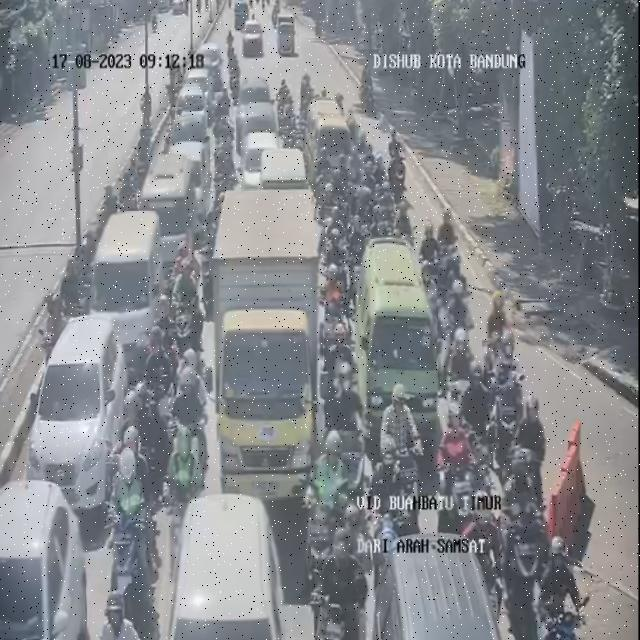bus: (272, 7, 301, 61), (197, 43, 224, 92), (234, 0, 258, 28)
cars: (28, 314, 128, 506), (166, 492, 288, 638), (359, 239, 436, 452), (0, 478, 85, 638), (372, 542, 506, 640), (87, 211, 159, 381), (140, 153, 206, 280), (258, 150, 310, 234), (311, 107, 354, 189), (236, 103, 280, 179), (169, 111, 210, 186), (164, 144, 210, 207), (241, 133, 280, 191), (235, 18, 268, 83), (238, 74, 273, 124), (179, 84, 211, 130), (231, 0, 249, 30)
motorcycle: (502, 445, 552, 626), (108, 426, 150, 616), (440, 376, 486, 530), (318, 521, 370, 638), (167, 352, 210, 492), (534, 534, 589, 640), (312, 431, 356, 555), (512, 391, 552, 505), (168, 248, 204, 368), (486, 331, 521, 448), (146, 314, 178, 438), (328, 357, 370, 451), (379, 382, 416, 488), (442, 327, 474, 444), (322, 267, 354, 374), (438, 283, 474, 374), (323, 223, 356, 319), (482, 288, 511, 384), (92, 594, 143, 640), (484, 332, 512, 401), (438, 208, 458, 284), (314, 148, 338, 208), (325, 202, 349, 260), (278, 83, 299, 148), (357, 130, 377, 196), (388, 135, 406, 206), (215, 135, 236, 190), (419, 220, 437, 284), (348, 150, 366, 206), (396, 194, 414, 245), (366, 148, 383, 202), (208, 92, 228, 136), (355, 128, 374, 169), (376, 156, 392, 204), (289, 99, 305, 146), (302, 68, 314, 111)
truck: (210, 202, 324, 499)
